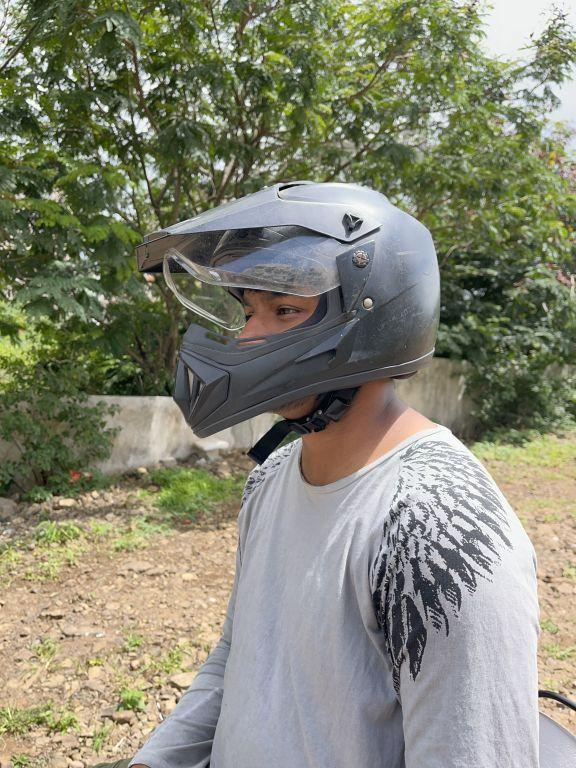helmet: (114, 167, 458, 442)
